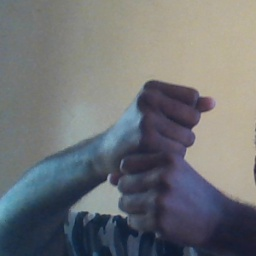G: (105, 76, 218, 242)
